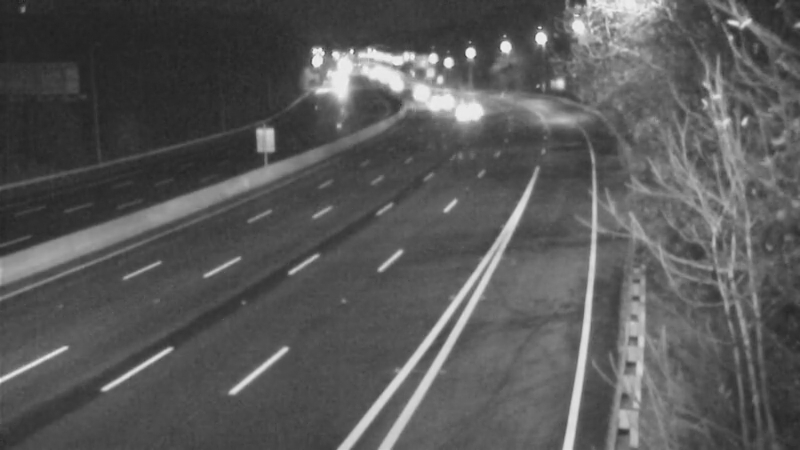vehicle: (416, 73, 466, 123), (442, 85, 492, 135)
